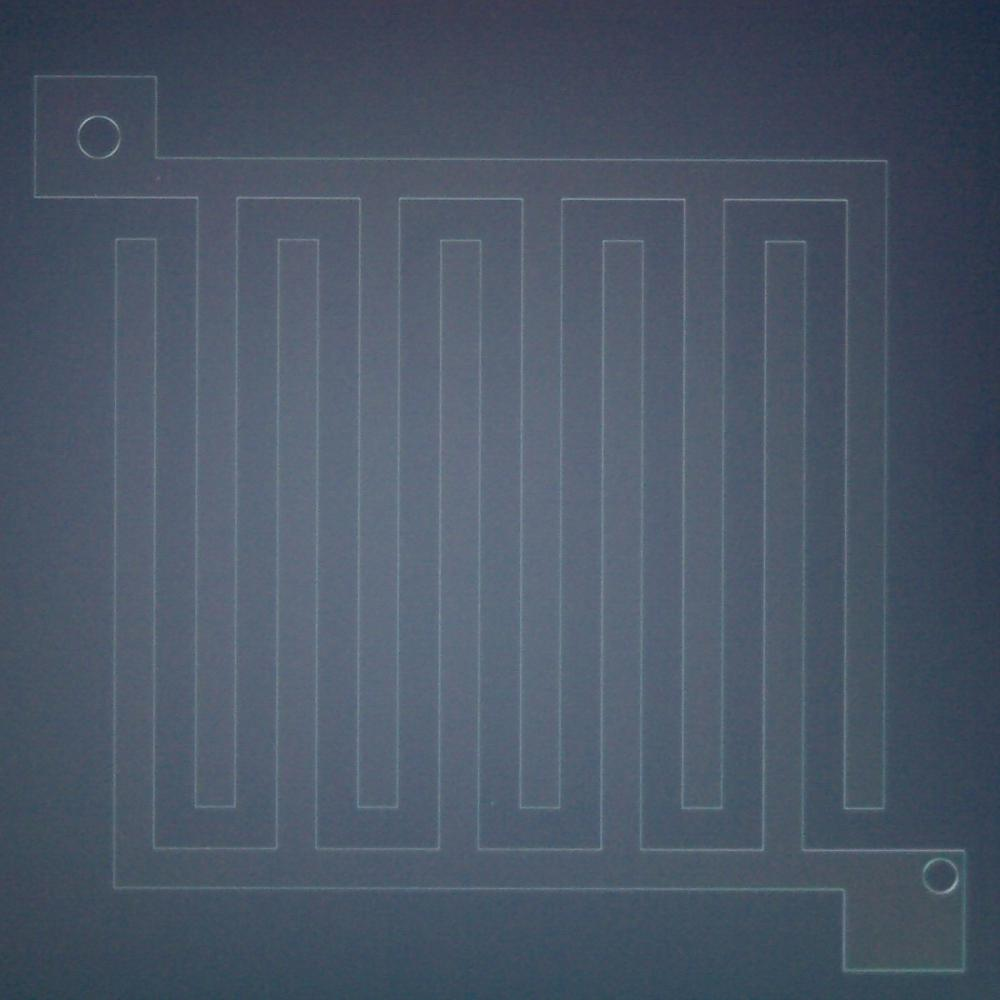dot: (157, 176, 161, 180), (491, 802, 493, 804)
